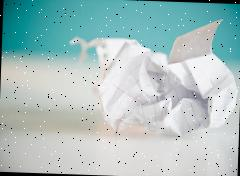paper: (67, 13, 240, 139)
